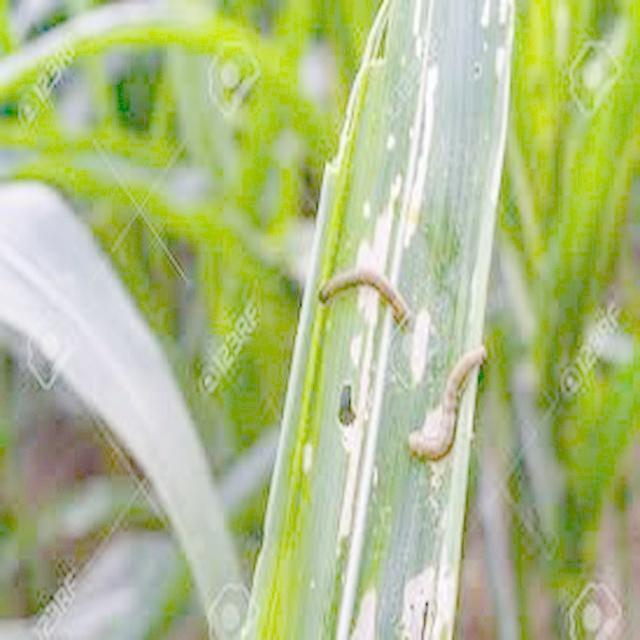gusano_cogollero: (404, 340, 488, 460), (315, 276, 415, 326)
